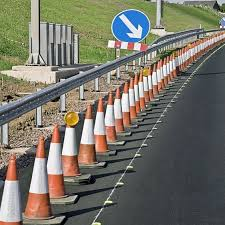cones: (30, 137, 63, 225), (45, 129, 79, 205), (80, 105, 107, 167), (1, 156, 25, 225), (94, 97, 117, 159)
